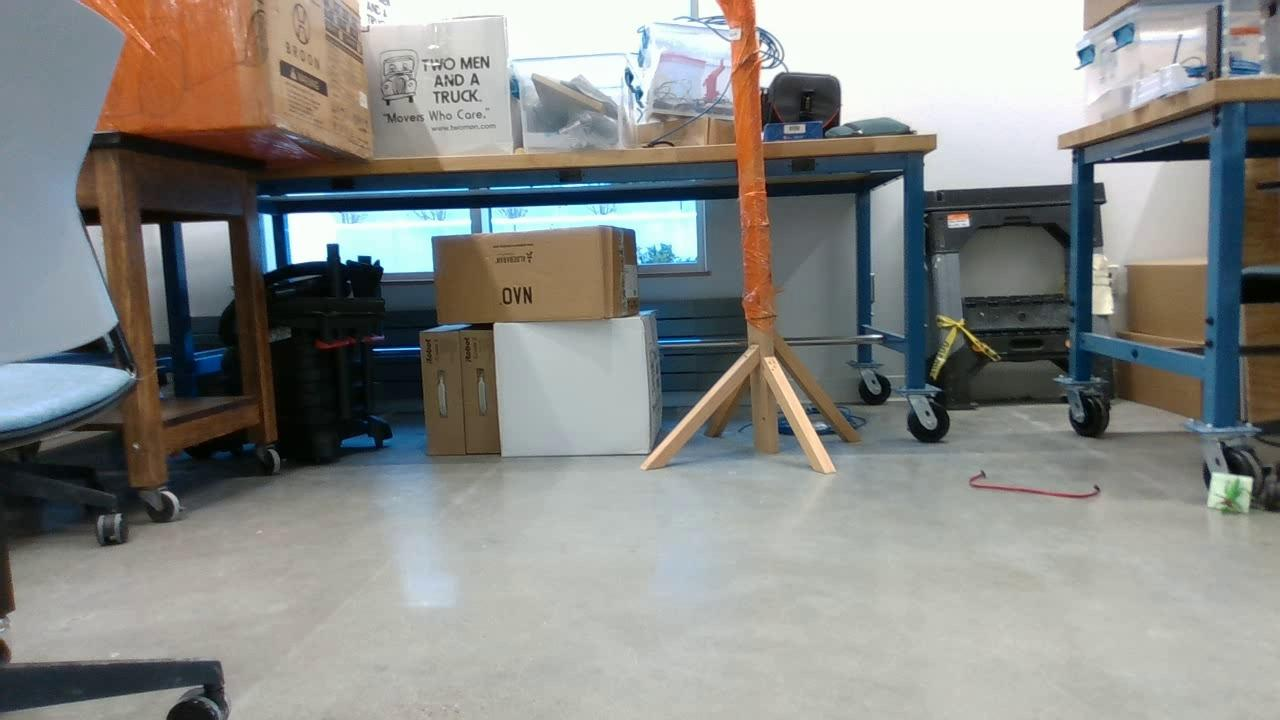grasshopper: (1212, 479, 1251, 517)
